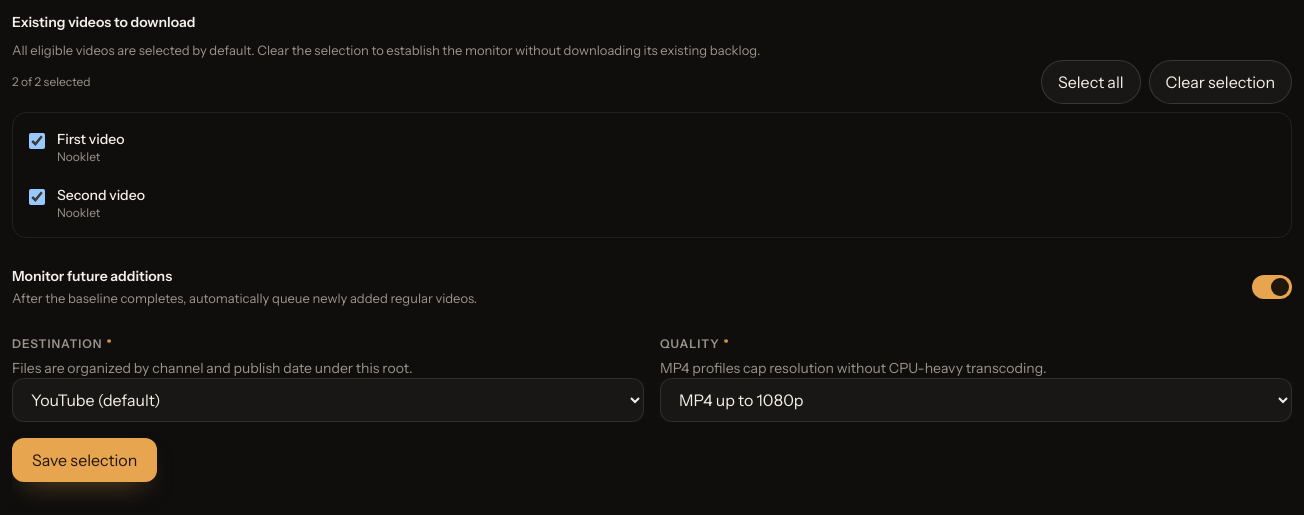
it: YouTubeDownloadConfigurationForm › selects every eligible playlist video by default and supports bulk controls
The width and height of the screenshot is (1304, 515).
Check: the text "2 of 2 selected" is shown, box [12,74,91,90]
Step 1. Click the button "Clear selection" → (1220, 82), box [1149,60,1292,104]
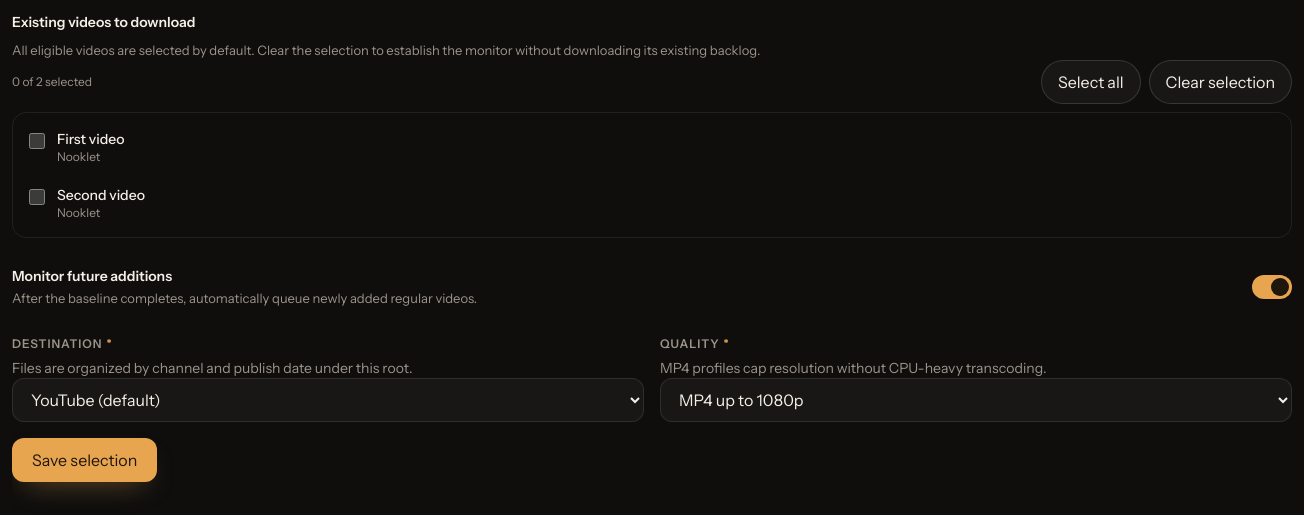
Check: the text "0 of 2 selected" is shown, box [12,74,92,90]
Step 2. Click the button "Select all" → (1091, 82), box [1041,60,1140,104]
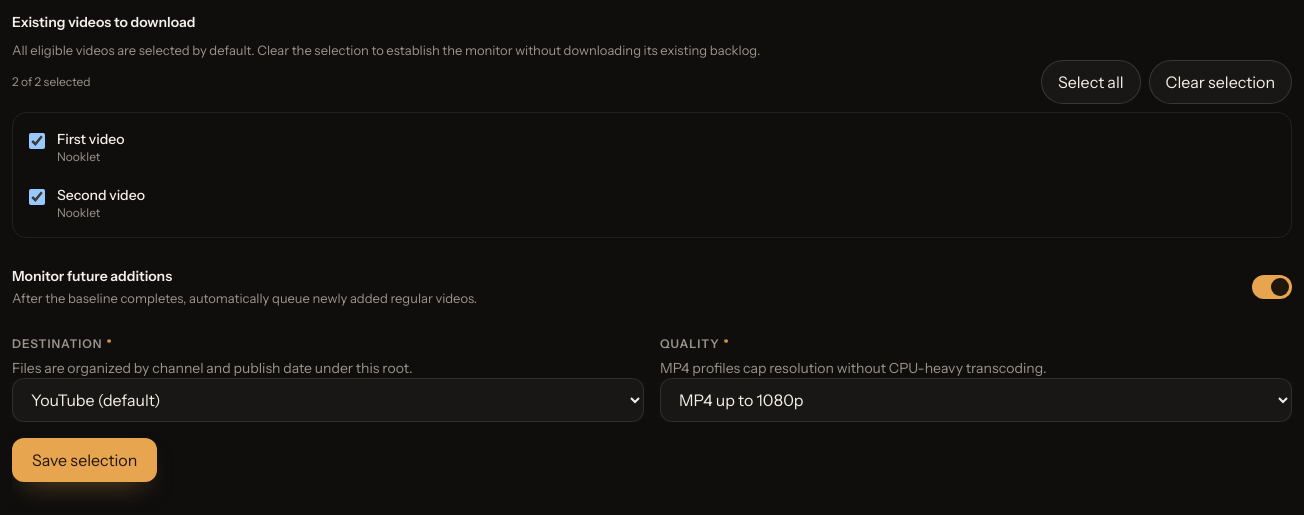
Check: the text "2 of 2 selected" is shown, box [12,74,91,90]
